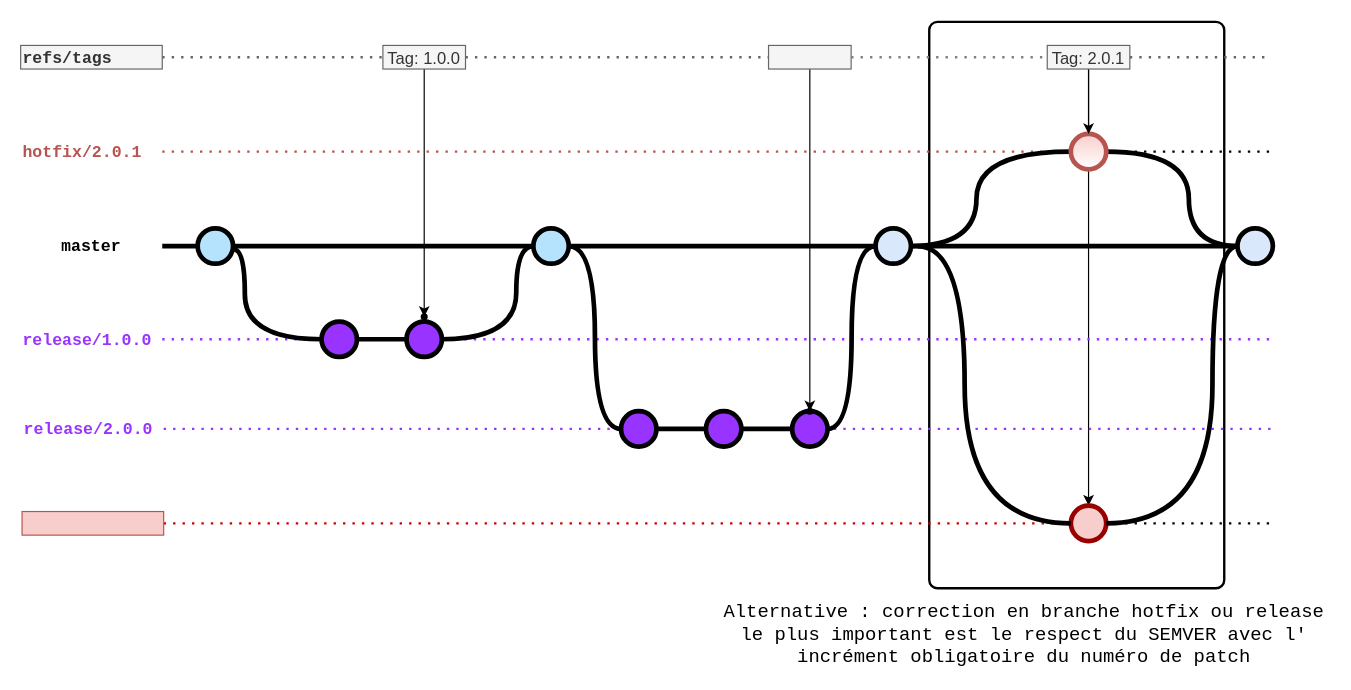
Image size: 1351x690. Some labels were removed from this diagram. The shapes that lost their labels are listed below. From the top down, each one's centre as x and y in pixels, then its label:
(x=809, y=56): Tag: 2.0.0
(x=92, y=522): release/2.0.1
